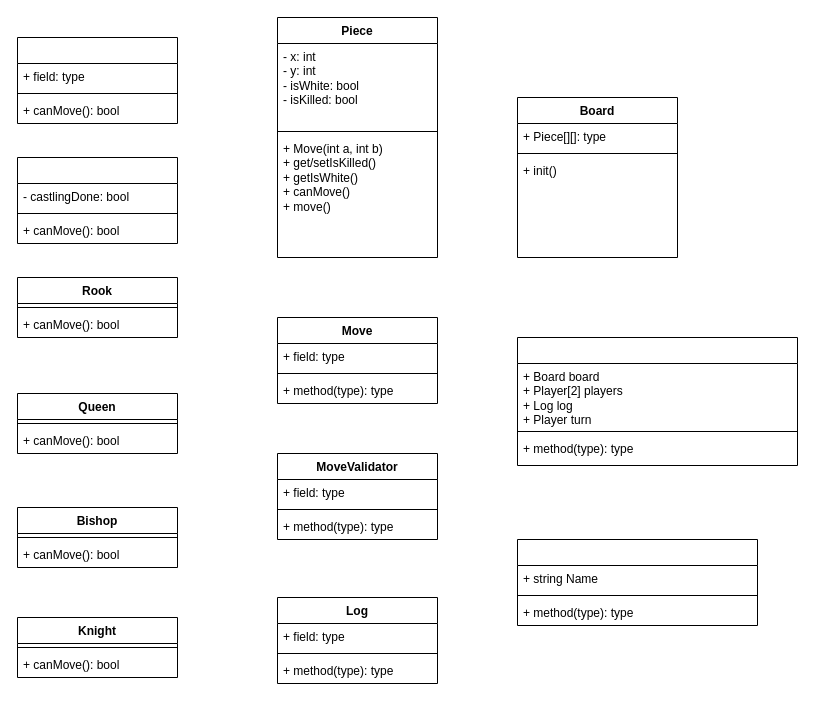
The diagram is 815 pixels wide and 704 high, and some of its shapes have lost their labels. The box of each missing label's shape, as (x1, y1, x2, y2) in pixels:
Game: (516, 336, 798, 466)
King: (16, 156, 178, 244)
Pawn: (16, 36, 178, 124)
Player: (516, 538, 758, 626)
